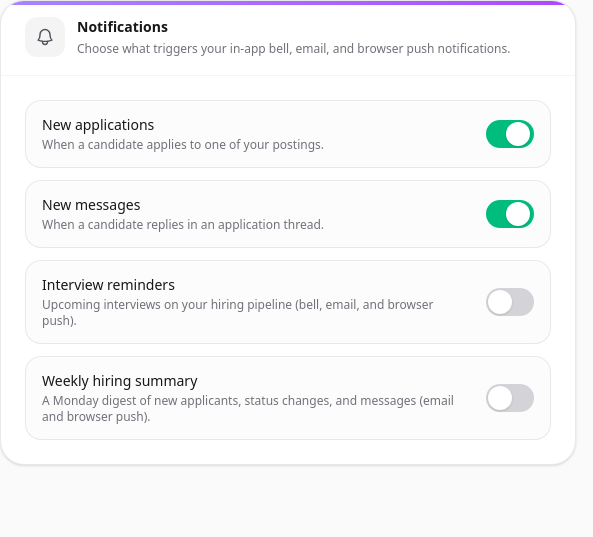
Test case: EmployerNotificationSettings › shows an error when saving fails
Step 1. Click the switch in the row of "New applications" → (510, 134), box [486,120,534,148]
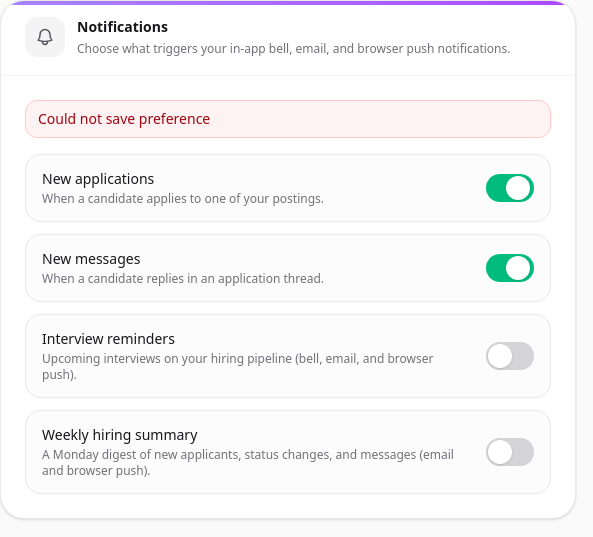
Expected: the text "Could not save preference" is shown, [25,100,551,138]
